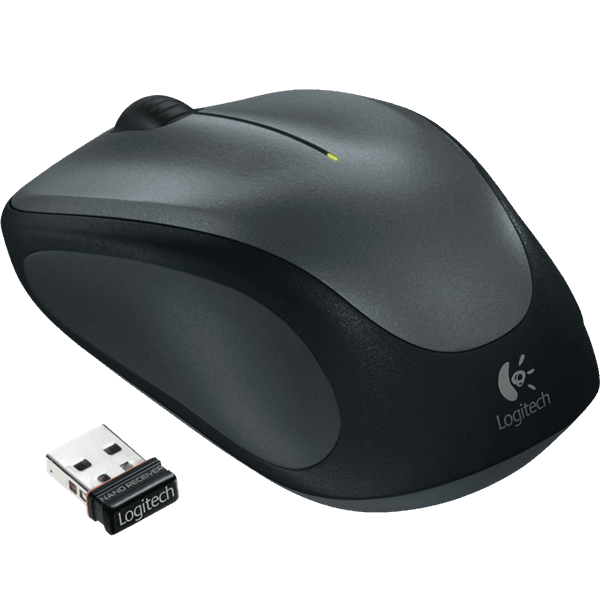Mouse: (1, 82, 600, 517)
